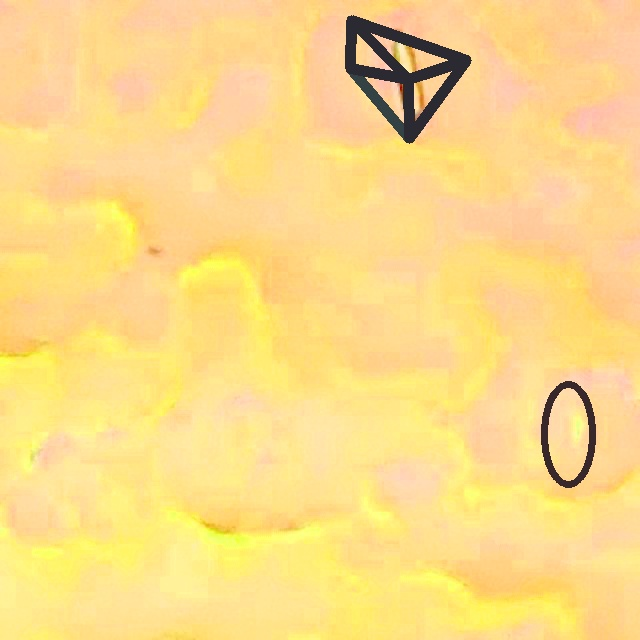close: (540, 380, 596, 487)
open: (345, 16, 471, 142)
